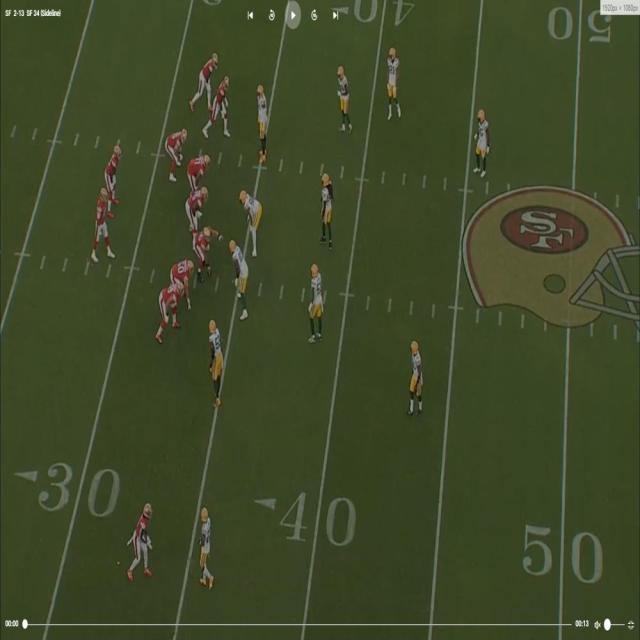center: (194, 226, 223, 280)
db: (199, 506, 213, 590), (385, 48, 400, 116), (411, 340, 424, 416), (478, 106, 490, 176), (341, 65, 351, 128)
lb: (309, 262, 322, 342), (321, 169, 334, 244), (255, 82, 267, 152)
qb: (95, 188, 110, 258)
skill: (129, 501, 151, 579), (207, 77, 230, 134), (194, 55, 217, 108), (168, 128, 186, 178), (104, 144, 120, 198)
